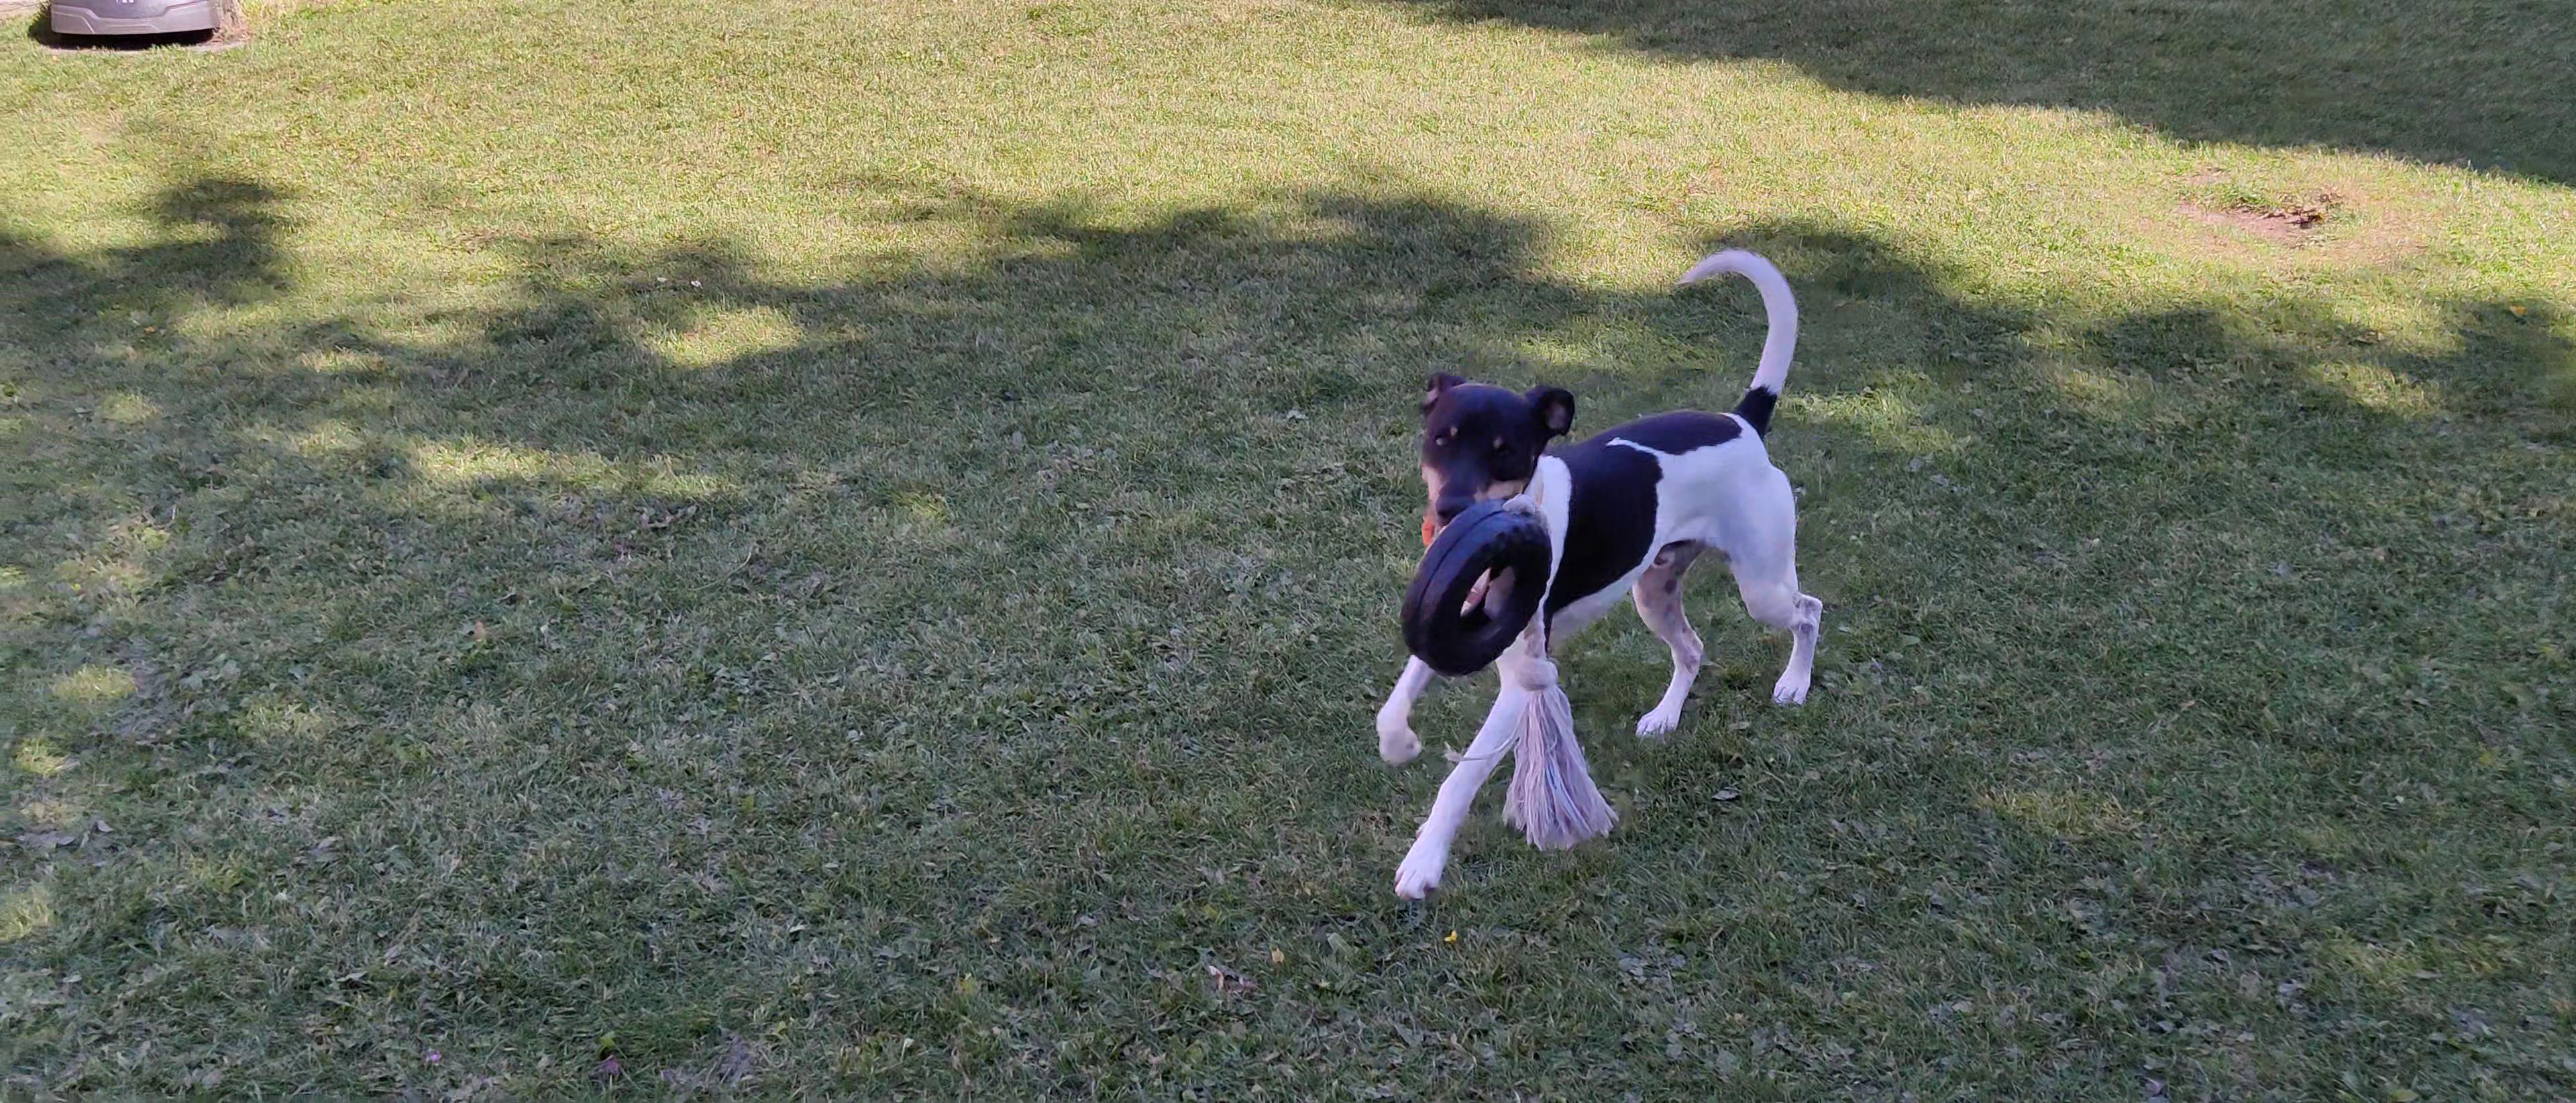Dog: (1365, 238, 1822, 902)
